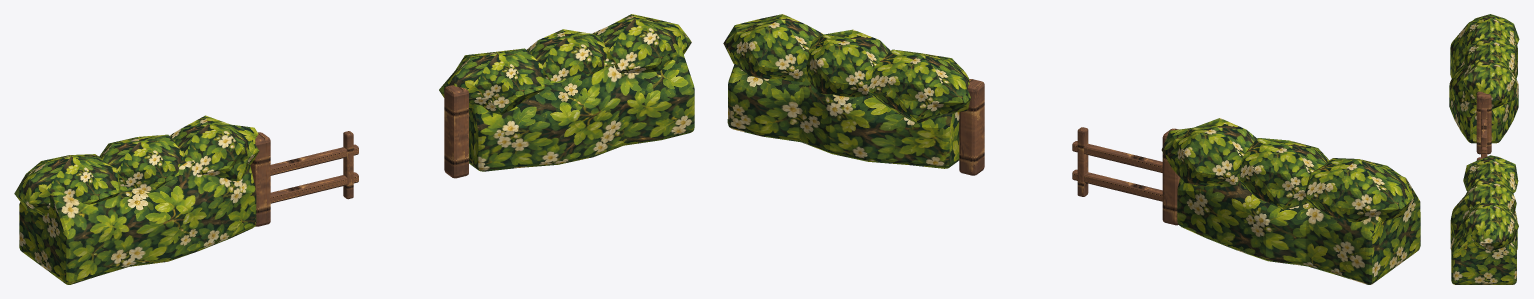
Rendered from hawthorn_gate.glb.
The picture shows the model from 3 angles, left to right: view 1: azimuth 30°, elevation 25°; view 2: azimuth 150°, elevation 25°; view 3: azimuth 270°, elevation 25°; orthographic projection. The views are drawn at different scales.
Visible parts, largest first — view 1: Painted flowering hawthorn, Painted field gate timber, Painted field gate timber.001; view 2: Painted flowering hawthorn, Painted field gate timber, Painted field gate timber.001; view 3: Painted flowering hawthorn, Painted field gate timber, Painted field gate timber.001.
Boxes of the visible parts, <box> form: Painted flowering hawthorn: <box>14,14,694,284</box>; Painted field gate timber: <box>250,85,468,226</box>; Painted field gate timber.001: <box>270,131,358,203</box>; Painted flowering hawthorn: <box>723,14,1420,284</box>; Painted field gate timber: <box>959,79,1179,225</box>; Painted field gate timber.001: <box>1072,127,1162,201</box>; Painted flowering hawthorn: <box>1449,14,1519,284</box>; Painted field gate timber: <box>1476,91,1491,160</box>; Painted field gate timber.001: <box>1481,108,1487,157</box>.
Bounding box in the file's own units: 14.73 × 2.29 × 1.97.
Materials: 3 (3 with a texture image).
